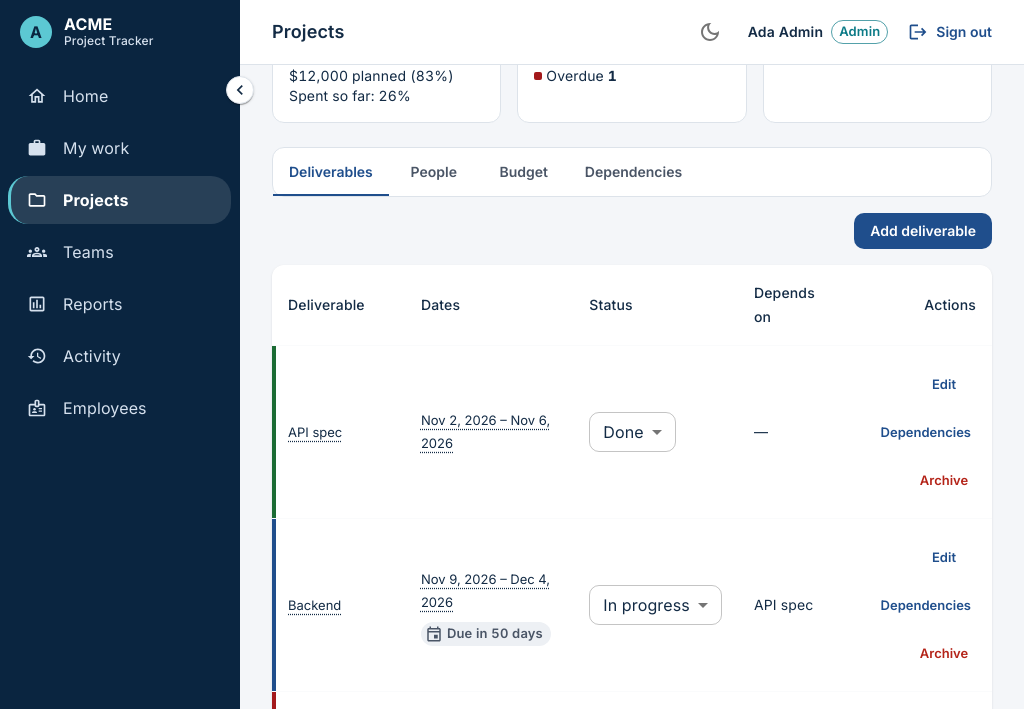
Test: Deliverable edit › a 409 dependents_started refusal shows its own sentence
The width and height of the screenshot is (1024, 709).
(page scrolled)
Click the button with aria-label "Edit API spec": (944, 384) [912,362,976,406]
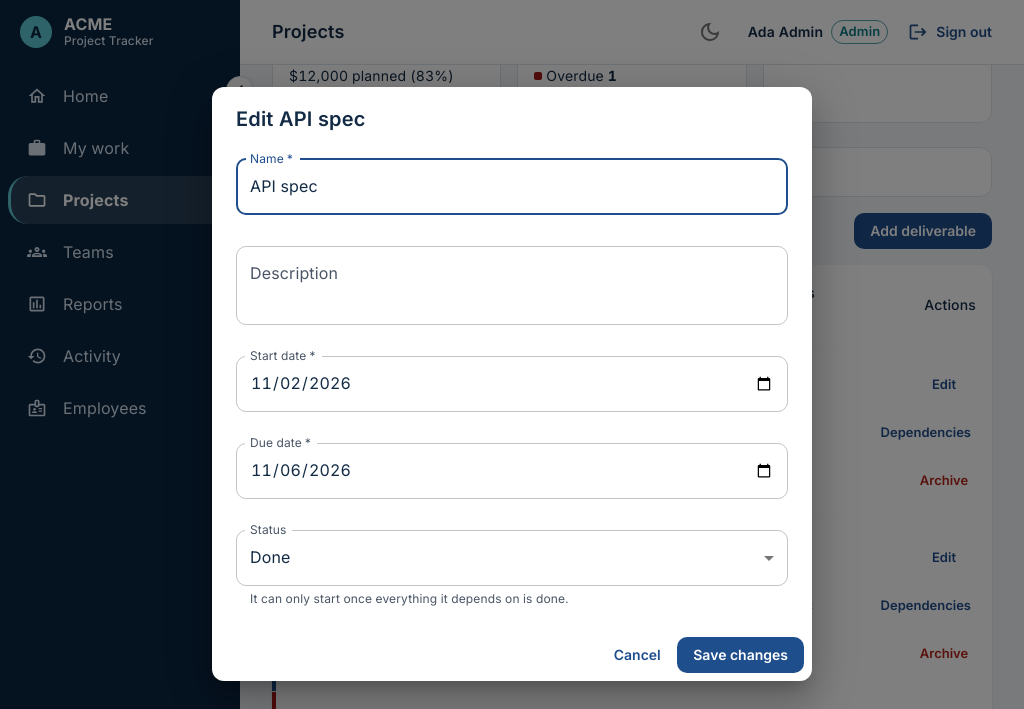
In the text box labelled "Description": (512, 285) [250,262,774,308], type "v2"
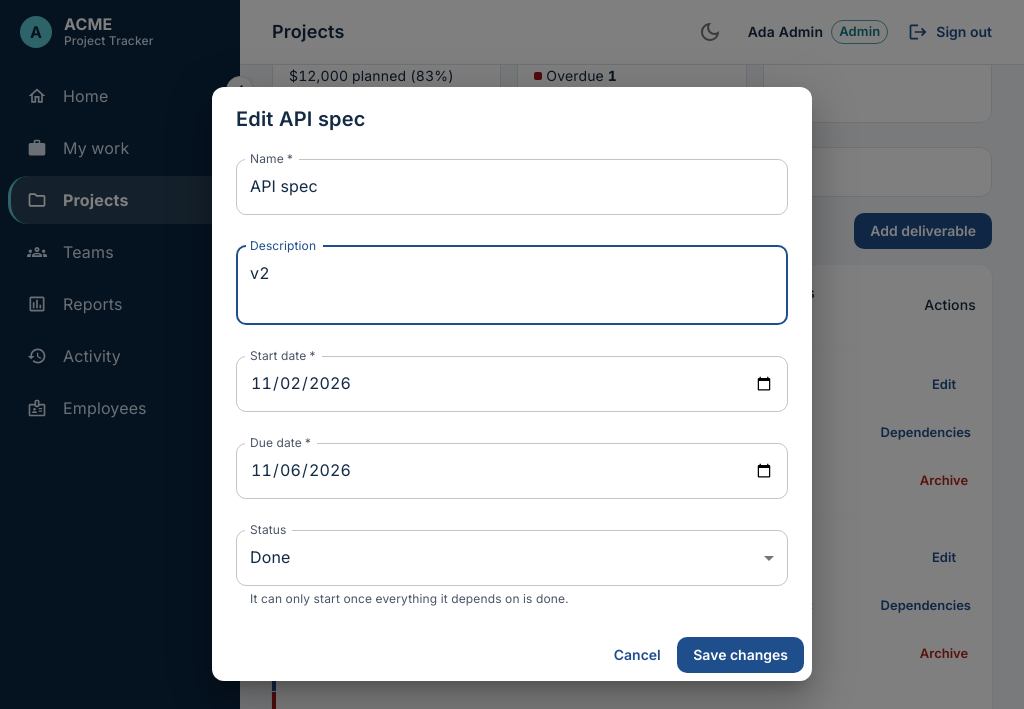
Click the button "Save changes": (741, 655) [677,636,804,673]
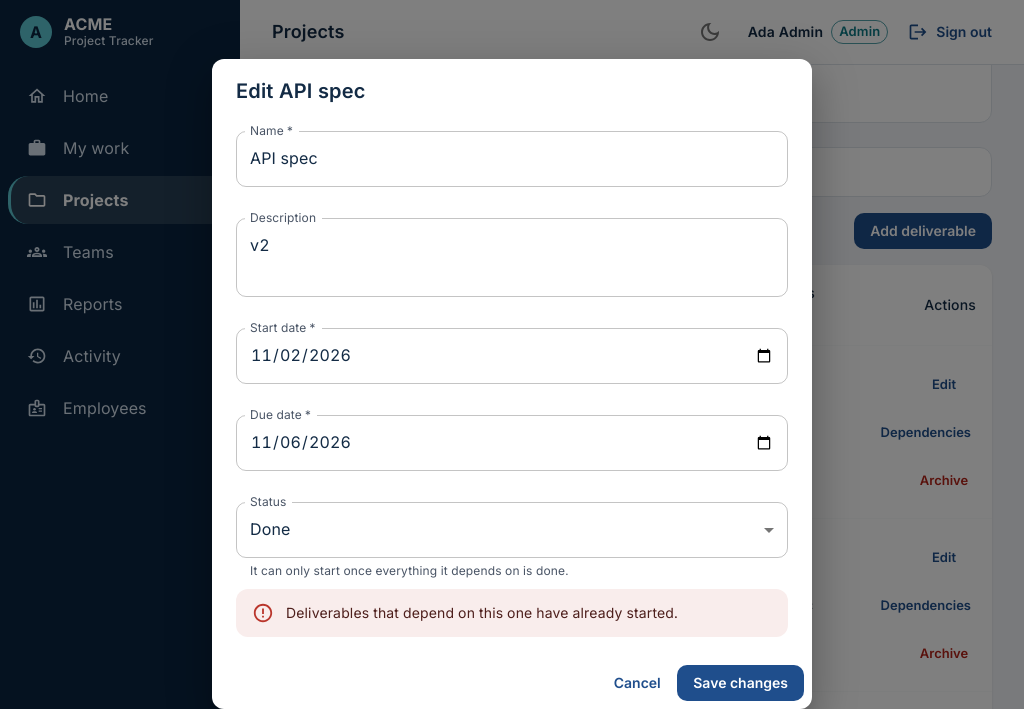
Result: the text "Deliverables that depend on this one have already started." is shown at [286,604,678,620]
